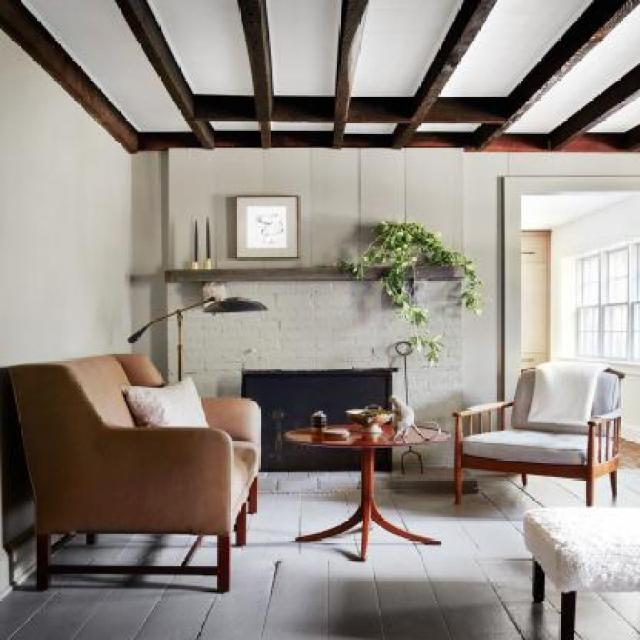floor: (0, 470, 578, 637)
